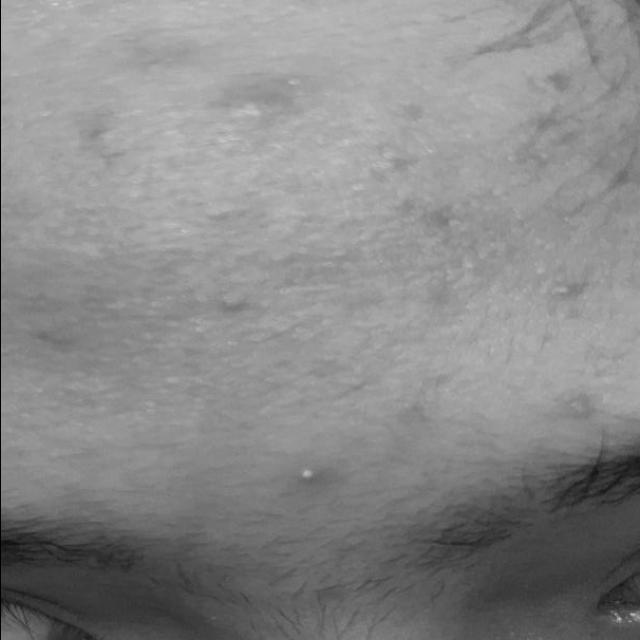papule: (52, 6, 315, 182)
pustule: (284, 454, 330, 506), (539, 275, 588, 303)
